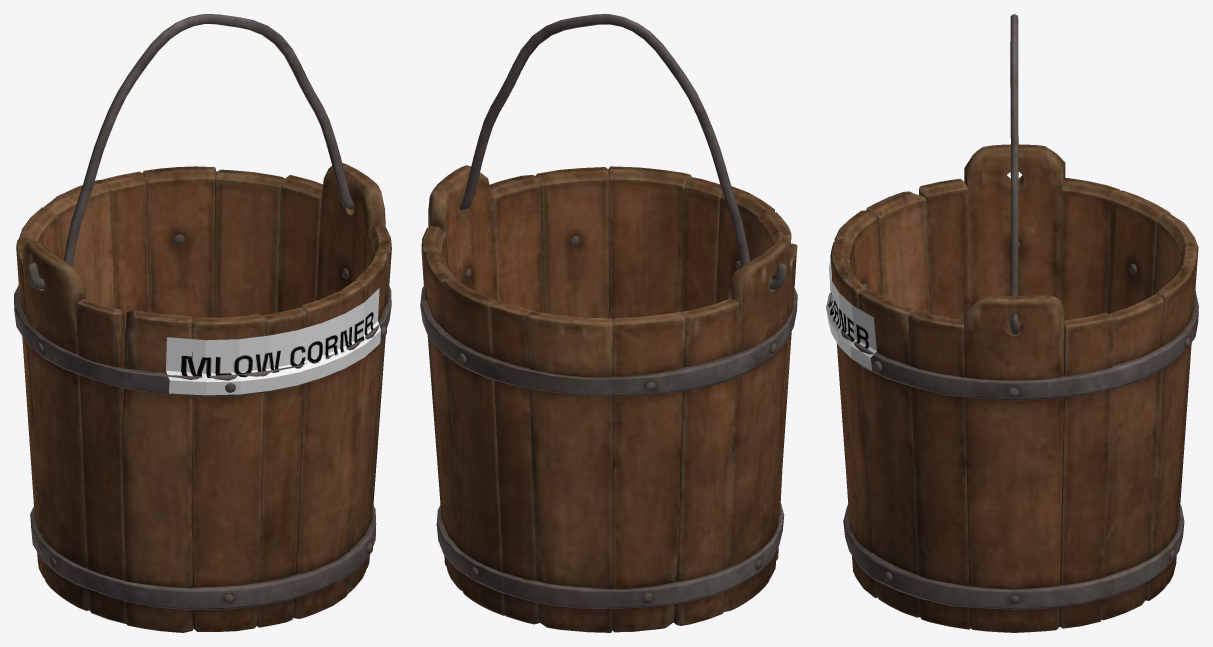
Rendered from nyb_bull_bucket.glb.
The picture shows the model from 3 angles, left to right: view 1: azimuth 30°, elevation 25°; view 2: azimuth 150°, elevation 25°; view 3: azimuth 270°, elevation 25°; orthographic projection.
Parts seen in each view (by area): view 1: wooden_bucket_01, stk_lbl_772b228a24.png; view 2: wooden_bucket_01; view 3: wooden_bucket_01, stk_lbl_772b228a24.png.
Part boxes in pixels (box(x1,y1,x2,y2)): wooden_bucket_01: box(14, 14, 391, 632); stk_lbl_772b228a24.png: box(166, 288, 380, 395); wooden_bucket_01: box(420, 14, 797, 632); wooden_bucket_01: box(829, 14, 1198, 632); stk_lbl_772b228a24.png: box(826, 260, 876, 370).
Size of the model in its own units: 0.367 by 0.5499 by 0.3443.
Materials: 2 (2 with a texture image).
